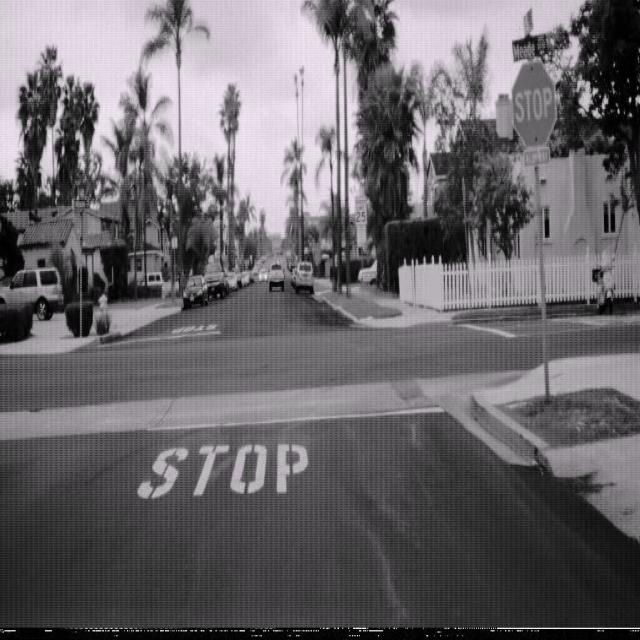stop_sign: (510, 58, 557, 148)
